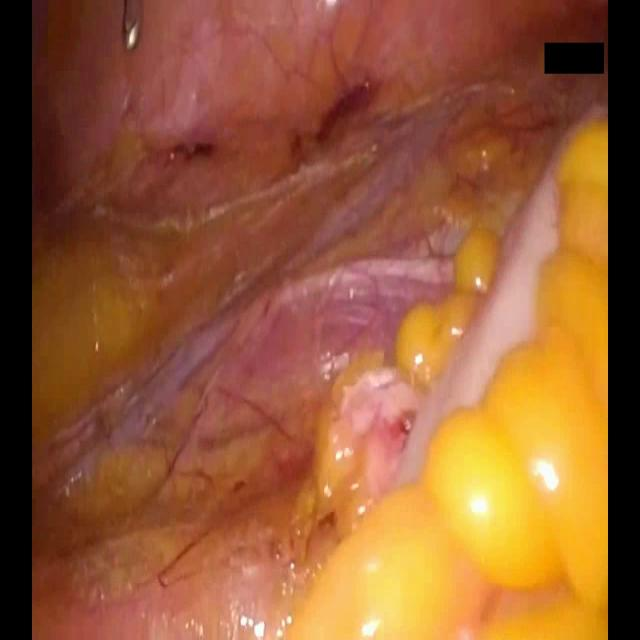surgical-area: (30, 0, 608, 639)
